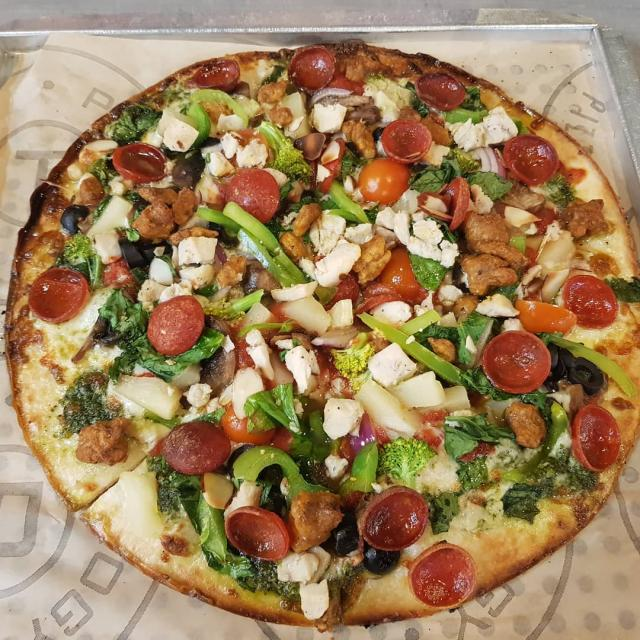basil: (114, 325, 229, 382), (170, 472, 228, 568), (442, 407, 517, 462), (406, 148, 480, 195), (93, 292, 148, 355), (240, 386, 303, 438), (464, 365, 510, 409), (401, 254, 452, 292), (452, 310, 486, 367), (470, 163, 511, 202), (519, 386, 553, 411)
black_olives: (115, 236, 171, 269), (570, 352, 605, 394), (546, 339, 574, 389), (360, 546, 402, 578), (56, 199, 90, 234), (330, 510, 355, 552)
mushrooms: (70, 311, 123, 365), (312, 90, 383, 126), (198, 333, 236, 400), (243, 260, 287, 296), (169, 144, 204, 188)
pepperoni: (409, 538, 479, 610), (359, 483, 430, 553), (484, 329, 550, 398), (225, 503, 292, 564), (145, 294, 206, 359), (164, 418, 232, 476), (28, 264, 88, 324), (560, 271, 620, 329), (223, 165, 282, 223), (571, 403, 620, 472), (501, 129, 562, 183), (110, 136, 172, 186), (379, 113, 432, 165), (287, 46, 335, 93), (411, 70, 467, 110), (192, 60, 240, 94), (446, 175, 473, 232), (318, 136, 342, 197)
pizza: (0, 37, 640, 634)
tomatoes: (372, 246, 423, 302), (512, 294, 578, 336), (355, 158, 413, 204), (216, 403, 275, 447)
